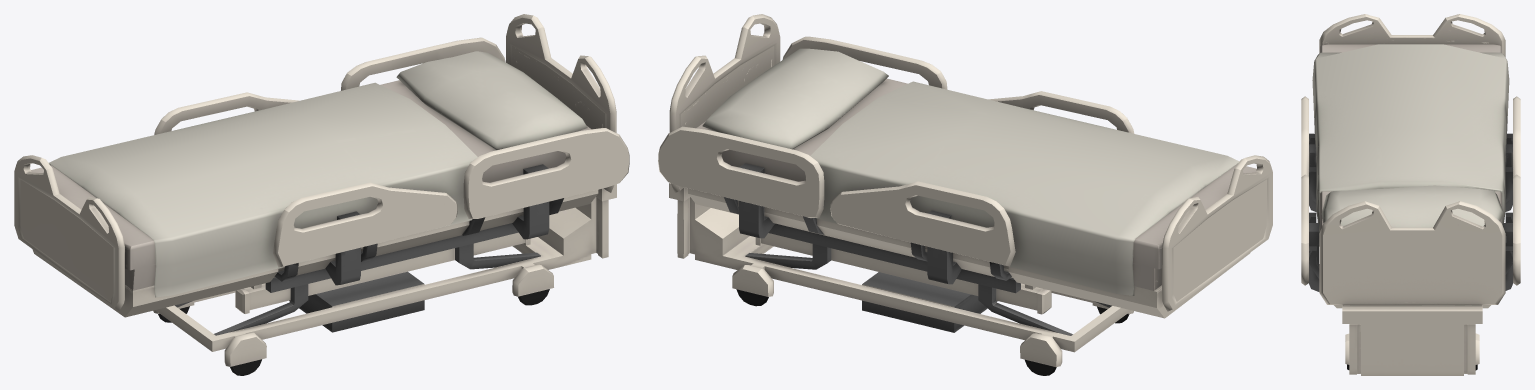
File: Patient Bed.fbx
3 views of the same model, side by side, from view 1: azimuth 30°, elevation 25°; view 2: azimuth 150°, elevation 25°; view 3: azimuth 270°, elevation 25° (orthographic). The views are drawn at different scales.
Parts seen in each view (by area): view 1: patient_Bed; view 2: patient_Bed; view 3: patient_Bed.
Part boxes in pixels (bbox=[...]): patient_Bed: bbox=[14, 14, 629, 375]; patient_Bed: bbox=[658, 14, 1272, 375]; patient_Bed: bbox=[1301, 14, 1520, 375].
Bounding box in the file's own units: 2.37 × 1.01 × 1.03.
